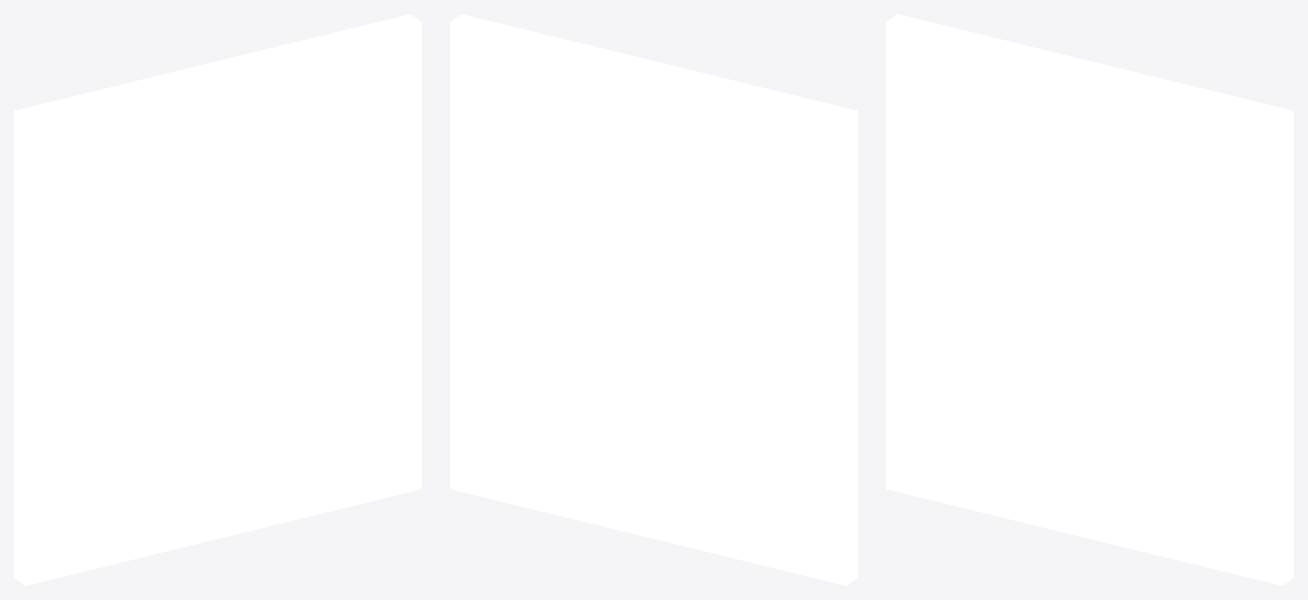
File: Mirror_16x18cm.glb
3 renders of one model, left to right at view 1: azimuth 30°, elevation 25°; view 2: azimuth 150°, elevation 25°; view 3: azimuth 330°, elevation 25°, orthographic.
Visible parts, largest first — view 1: Reflector_Plane16x18, FrameLeft, FrameTop, FrameRight, FrameBottom; view 2: Reflector_Plane16x18, FrameLeft, FrameTop, FrameRight, FrameBottom, ReflectorGlint, ReflectorGlintSmall; view 3: Reflector_Plane16x18, FrameRight, FrameTop, FrameLeft, FrameBottom.
Part boxes in pixels (x1,y1,x2,y2): Reflector_Plane16x18: (19,17,416,581); FrameLeft: (14,107,41,585); FrameTop: (30,18,405,131); FrameRight: (395,14,421,492); FrameBottom: (41,473,405,581); Reflector_Plane16x18: (455,17,852,581); FrameLeft: (830,107,857,585); FrameTop: (466,18,841,131); FrameRight: (450,14,476,492); FrameBottom: (466,475,830,581); ReflectorGlint: (675,98,777,203); ReflectorGlintSmall: (527,373,628,477); Reflector_Plane16x18: (891,17,1288,581); FrameRight: (1266,107,1293,585); FrameTop: (902,18,1277,131); FrameLeft: (886,14,912,492); FrameBottom: (902,473,1266,581).
Size of the model in its own units: 0.16 by 0.18 by 0.0133.
